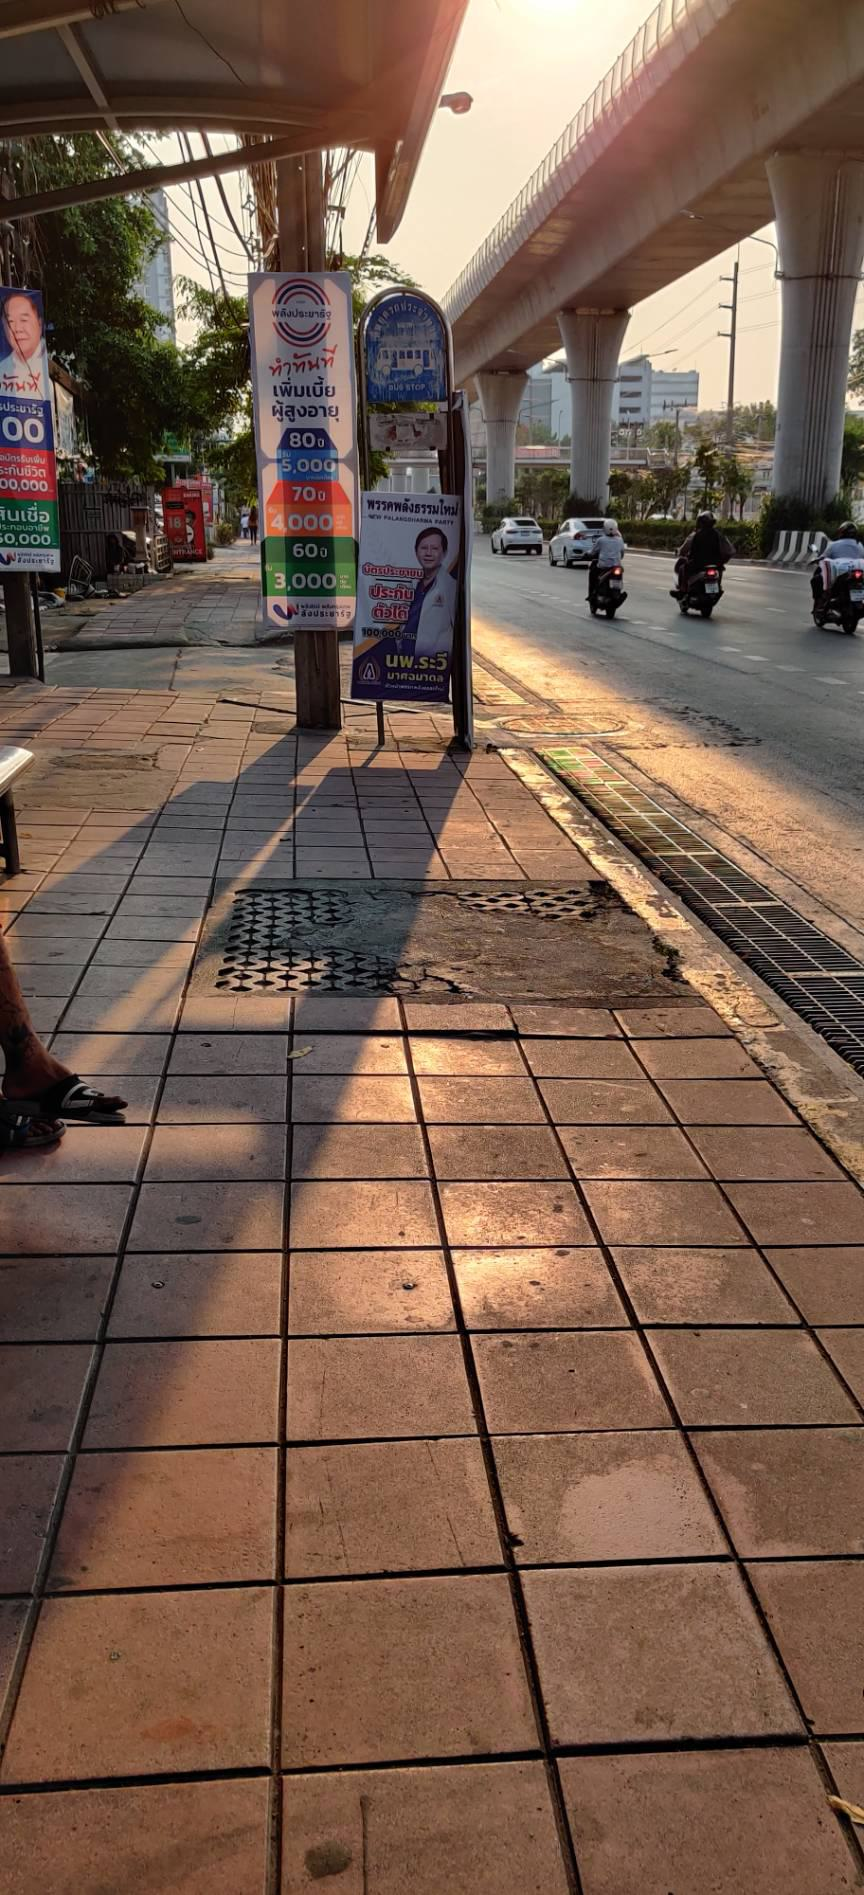Banner: (260, 255, 364, 661), (358, 483, 474, 709), (0, 270, 64, 581)
